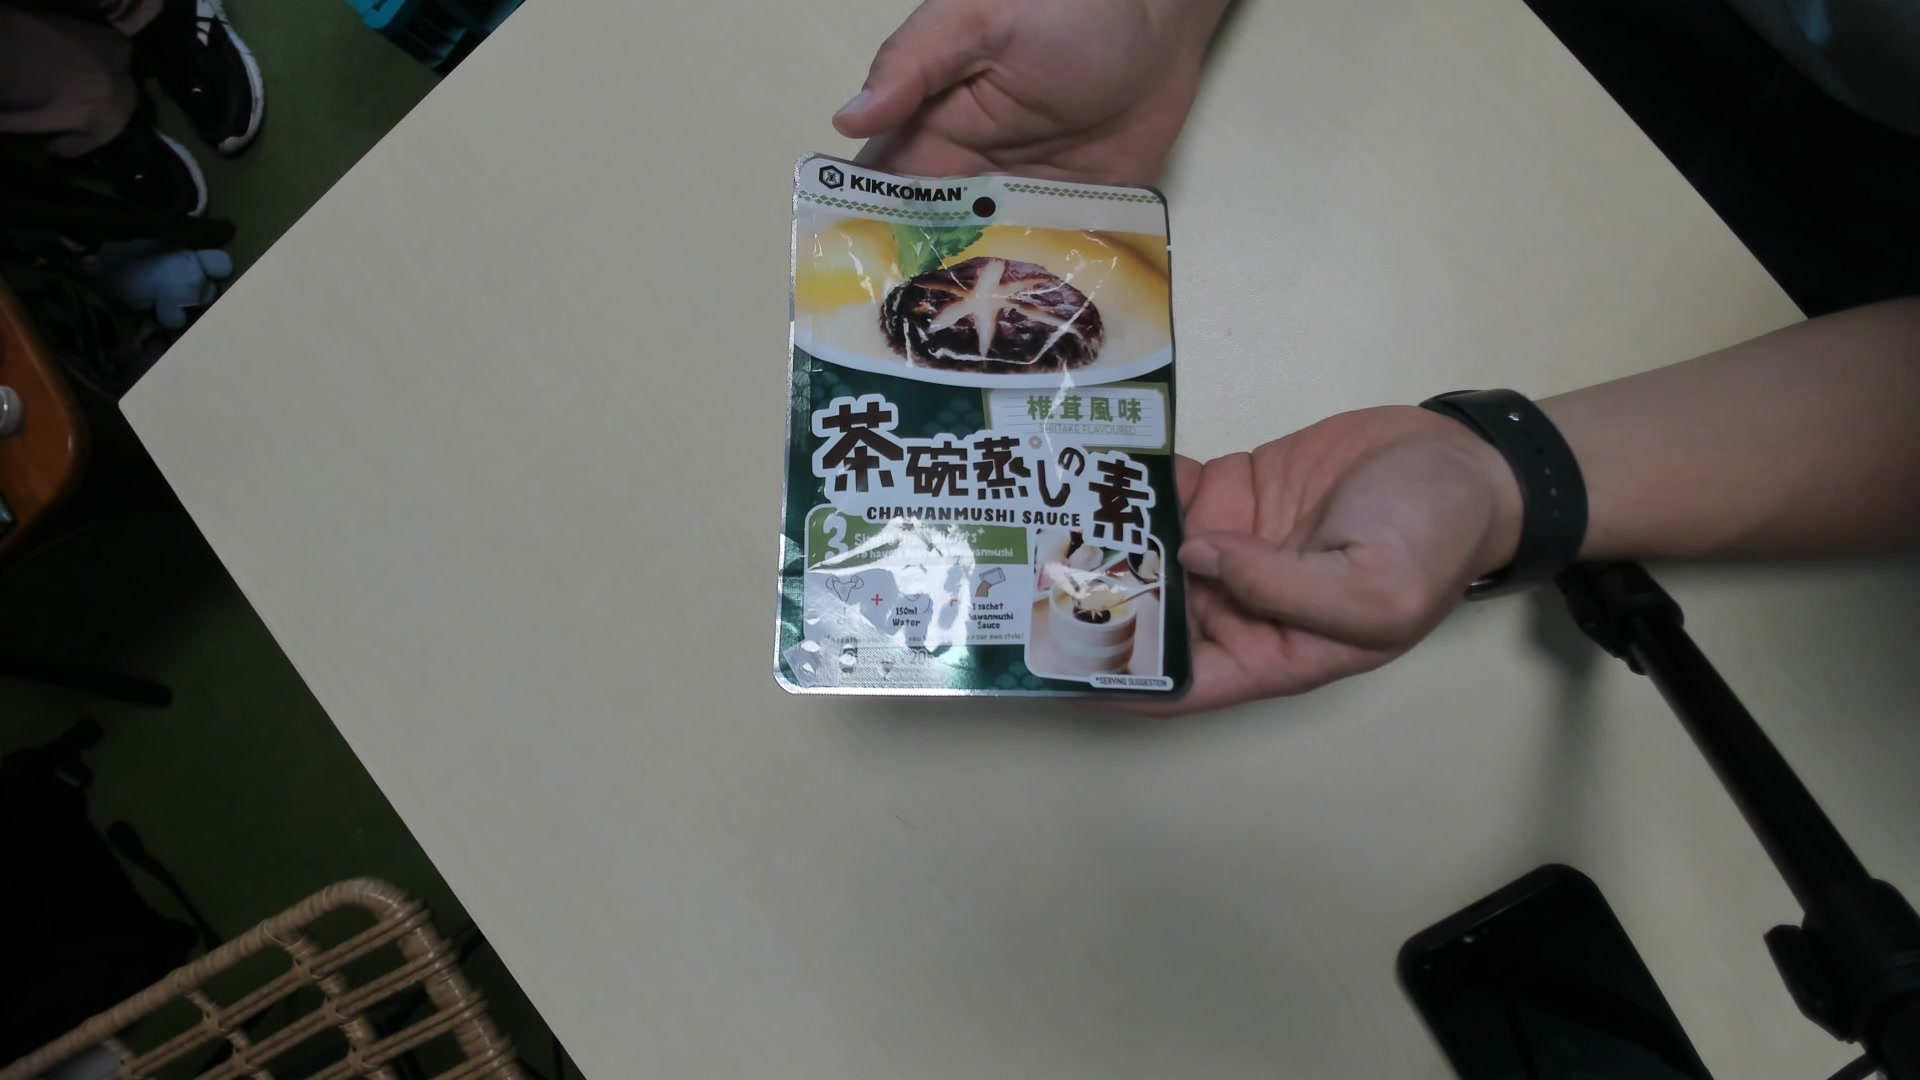OtherSauceDressing_0-99g_NonHalal_NonHealthy: (785, 150, 1192, 702)
